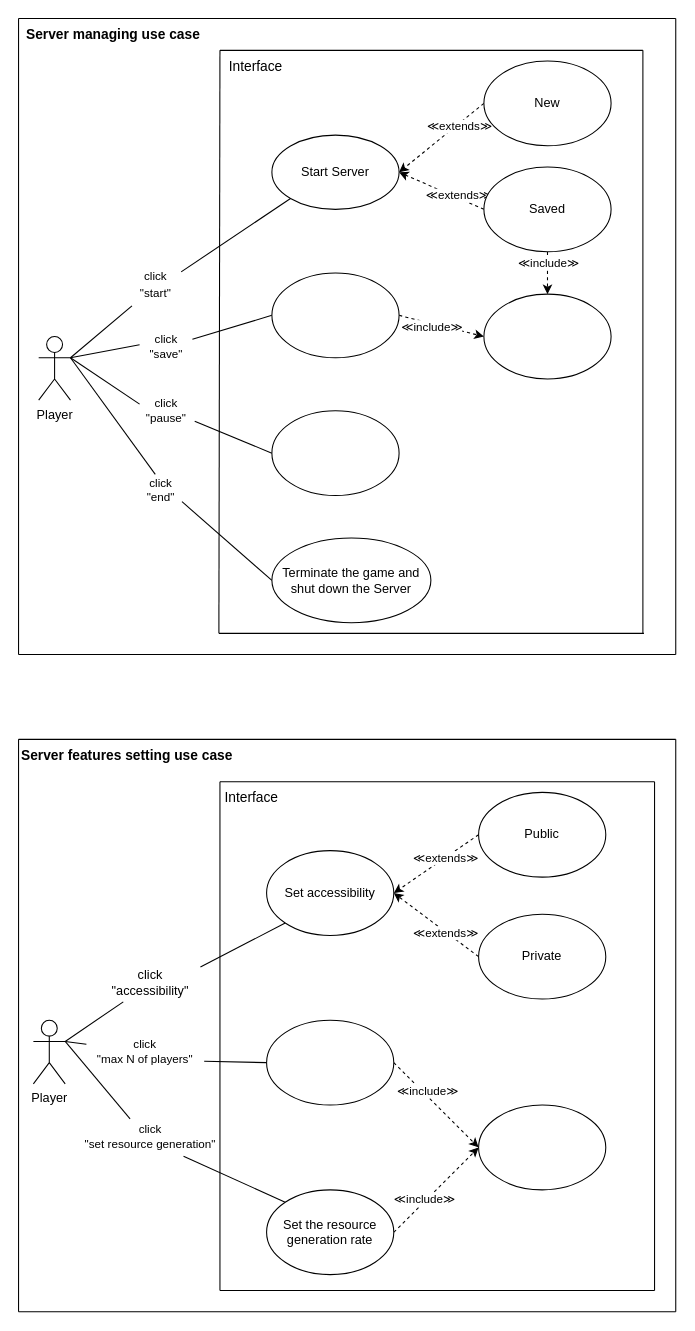
Image size: 695x1331. Some labels were removed from this diagram. Here are the shapes that lost their labels. From the top down, the box of each, then its label:
(271, 272, 399, 358): Save game data
(483, 293, 611, 379): Select directory
(271, 410, 399, 496): Pause the game
(266, 1019, 394, 1105): Set max number of palyers
(478, 1104, 606, 1190): Read a value (number)
